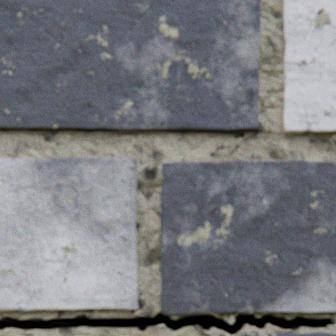brick: (0, 0, 259, 134), (160, 161, 335, 315), (0, 158, 138, 311), (283, 0, 335, 135), (269, 332, 335, 335)
crack: (0, 311, 335, 335)
